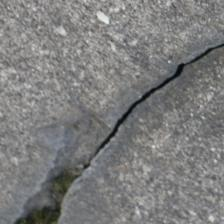Crack: (86, 42, 223, 172), (14, 161, 94, 222)
